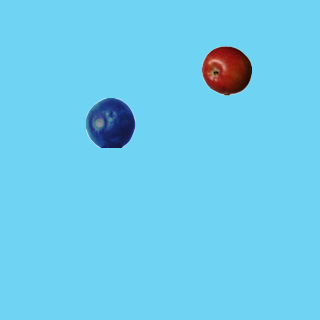Apple Braeburn: (201, 45, 251, 95)
Huckleberry: (85, 97, 135, 147)
